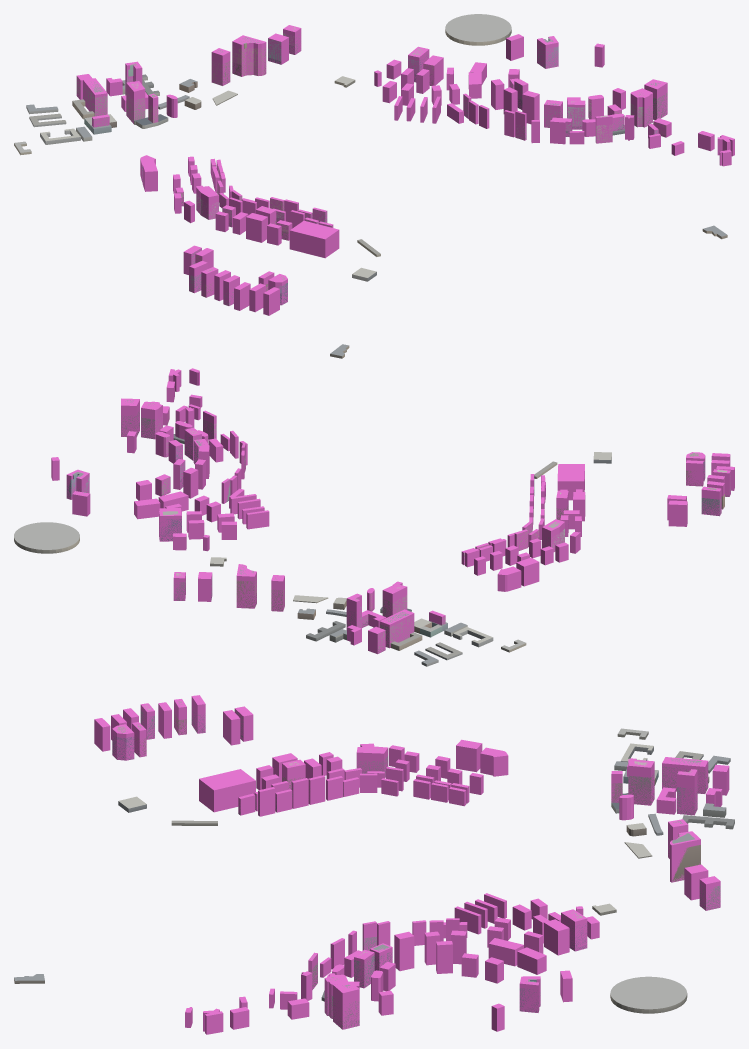
File: bld_9_0.fbx
3 renders of one model, top to bottom at view 1: azimuth 30°, elevation 25°; view 2: azimuth 150°, elevation 25°; view 3: azimuth 270°, elevation 25°, orthographic. The views are drawn at different scales.
Parts seen in each view (by area): view 1: bld_9_0_COL, bld_9_0_LOD0; view 2: bld_9_0_COL, bld_9_0_LOD0; view 3: bld_9_0_COL, bld_9_0_LOD0.
Boxes of the visible parts, left/top/right/bottom form: bld_9_0_COL: left=76, top=25, right=734, bottom=315; bld_9_0_LOD0: left=14, top=14, right=727, bottom=305; bld_9_0_COL: left=51, top=368, right=734, bottom=654; bld_9_0_LOD0: left=14, top=344, right=730, bottom=666; bld_9_0_COL: left=94, top=695, right=729, bottom=1034; bld_9_0_LOD0: left=14, top=699, right=734, bottom=1029.
Size of what is drawn, in the model's own units: 2037 by 121 by 1996.
